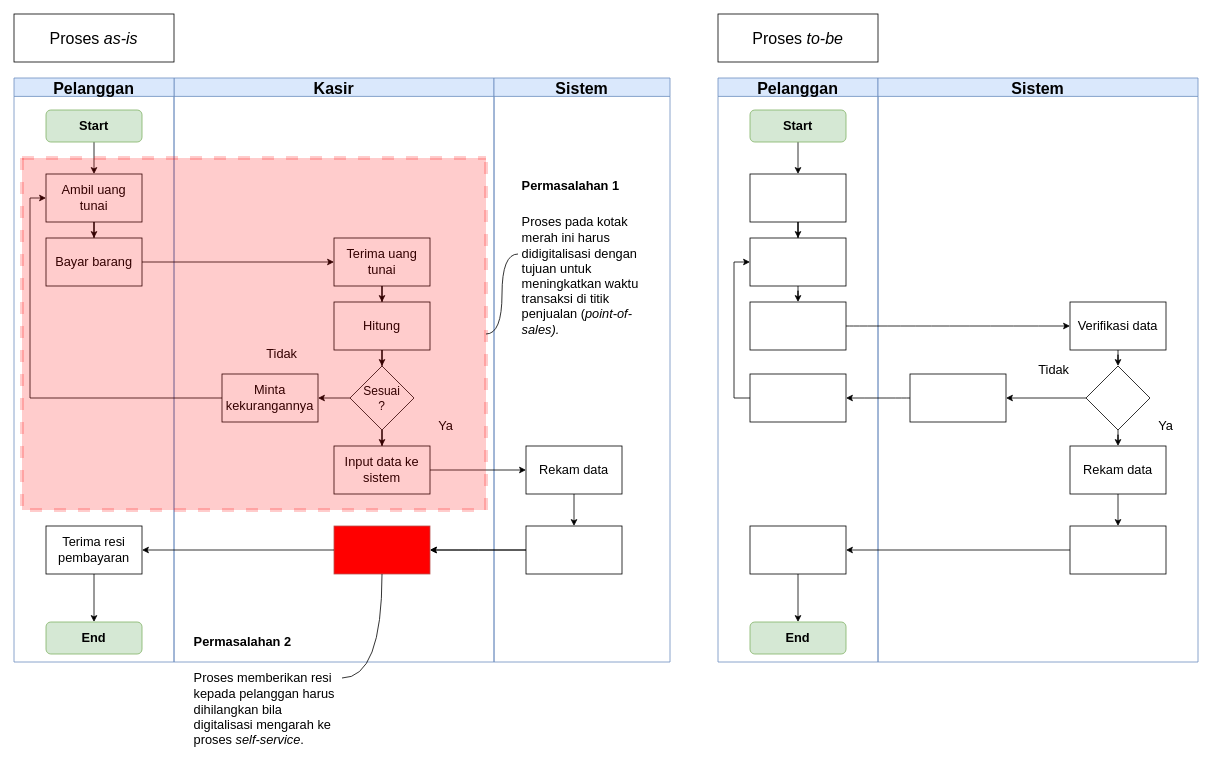
This 1212x772 diagram has some shape labels left out. Each missing label, with the centre of its shape:
Bayar via app: pixel 797 325
Berikan resi ke pelanggan: pixel 381 549
Buat resi pembayaran ( in-app): pixel 1117 549
Buka app pembayaran: pixel 797 197
Cetak resi pembayaran: pixel 573 549
Perbaiki kesalahan: pixel 797 397
Periksa resi pembayaran: pixel 797 549
Scan barcode: pixel 797 261
Tampilkan pesan kesalahan: pixel 957 397
Valid ?: pixel 1117 397
